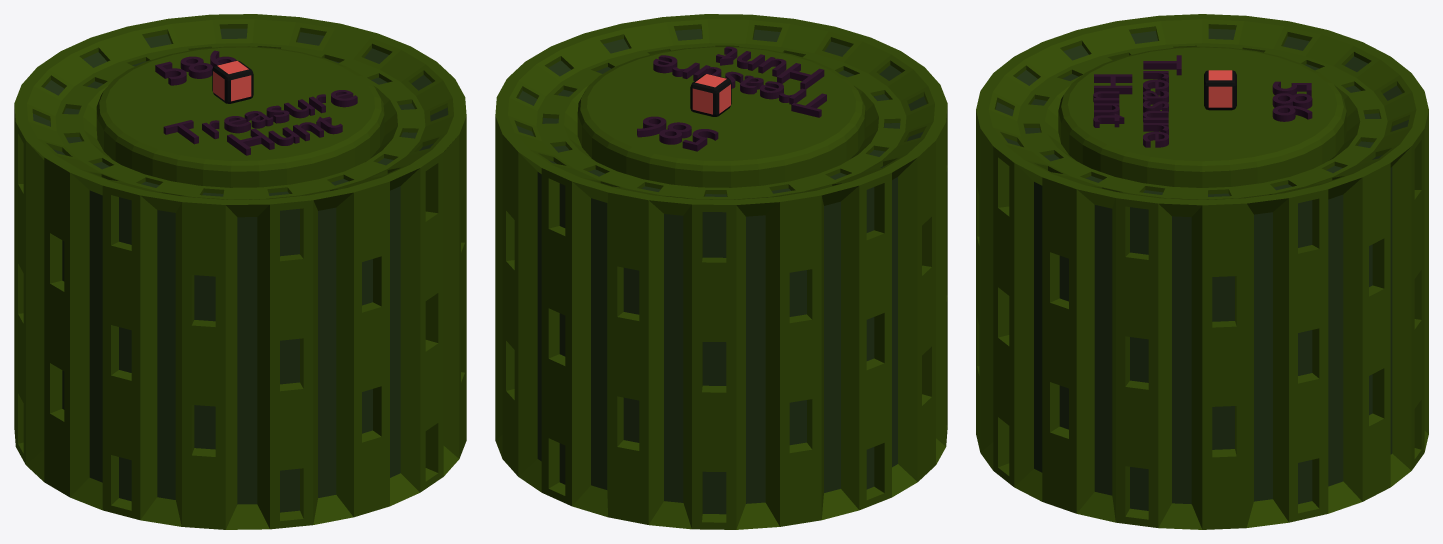
File: Puzzle_Cube.glb
3 renders of one model, left to right at view 1: azimuth 30°, elevation 25°; view 2: azimuth 150°, elevation 25°; view 3: azimuth 270°, elevation 25°, orthographic.
Visible parts, largest first — view 1: Main_Body, Main_Door, Text_3_Treasure, Text_2_Hunt, Button_Main, Text_1_586; view 2: Main_Body, Main_Door, Text_3_Treasure, Text_2_Hunt, Button_Main, Text_1_586; view 3: Main_Body, Main_Door, Text_3_Treasure, Text_2_Hunt, Text_1_586, Button_Main.
Part boxes in pixels (x1=…): Main_Body: x1=14, y1=14, x2=466, y2=529; Main_Door: x1=96, y1=46, x2=384, y2=187; Text_3_Treasure: x1=163, y1=90, x2=357, y2=144; Text_2_Hunt: x1=227, y1=116, x2=342, y2=155; Button_Main: x1=212, y1=60, x2=253, y2=103; Text_1_586: x1=155, y1=50, x2=236, y2=85; Main_Body: x1=495, y1=14, x2=947, y2=529; Main_Door: x1=577, y1=46, x2=865, y2=194; Text_3_Treasure: x1=653, y1=55, x2=826, y2=117; Text_2_Hunt: x1=716, y1=46, x2=824, y2=89; Button_Main: x1=690, y1=74, x2=731, y2=116; Text_1_586: x1=637, y1=116, x2=718, y2=151; Main_Body: x1=976, y1=14, x2=1428, y2=529; Main_Door: x1=1058, y1=46, x2=1346, y2=187; Text_3_Treasure: x1=1143, y1=55, x2=1181, y2=147; Text_2_Hunt: x1=1093, y1=74, x2=1132, y2=127; Text_1_586: x1=1272, y1=81, x2=1312, y2=121; Button_Main: x1=1204, y1=70, x2=1236, y2=110.
Size of the model in its own units: 9.63 by 8.44 by 9.63.
